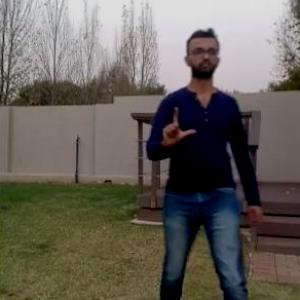land_hand: (156, 102, 202, 154)
